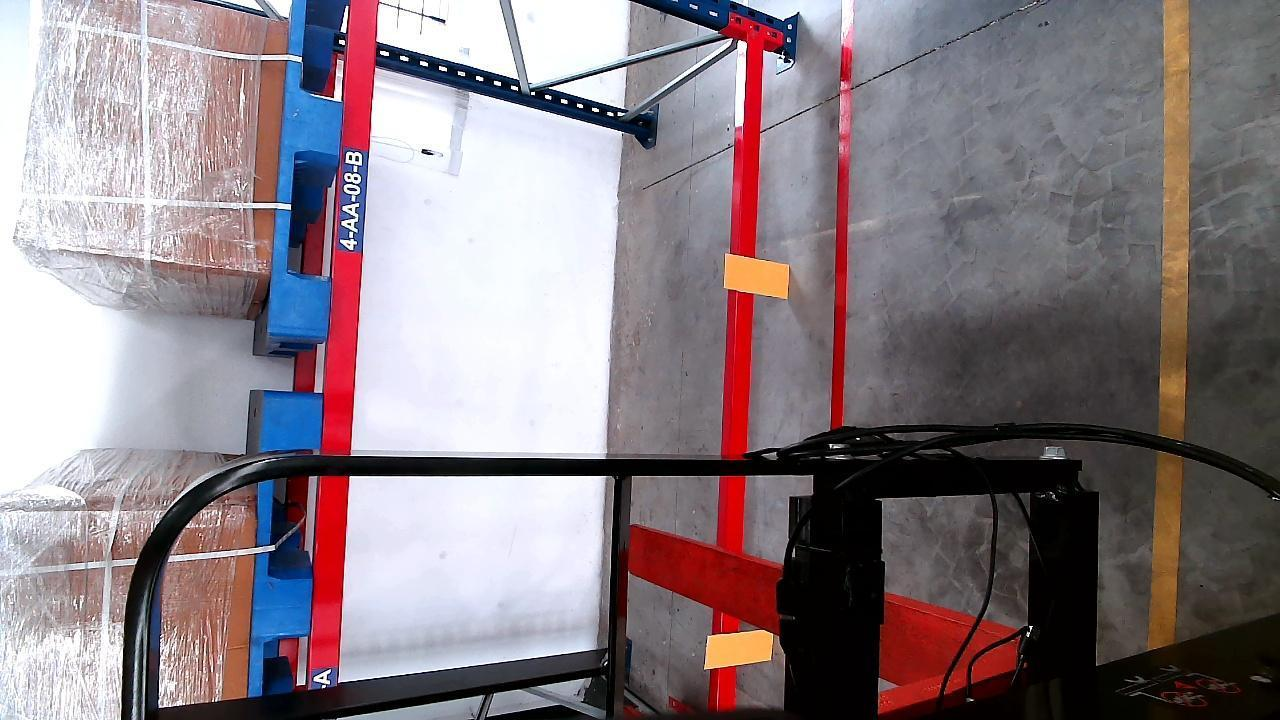h_rack: (313, 0, 376, 688), (712, 39, 766, 710)
orange_strip: (707, 628, 778, 669), (727, 256, 791, 295)
red_line: (830, 7, 856, 435)
small_pallet: (266, 0, 348, 343), (252, 404, 322, 690)
yellow_line: (1148, 0, 1192, 655)
